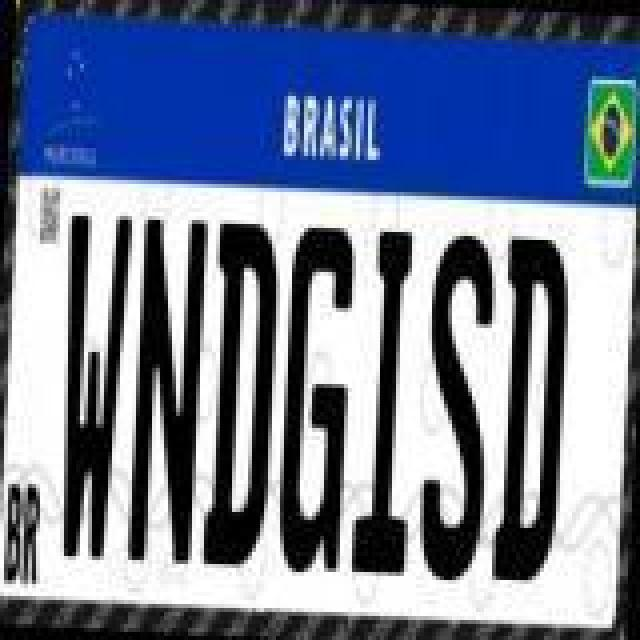D: (486, 230, 570, 586), (198, 216, 282, 568)
G: (274, 222, 358, 578)
I: (346, 228, 422, 580)
N: (128, 216, 208, 568)
S: (414, 230, 498, 586)
W: (50, 208, 134, 560)
